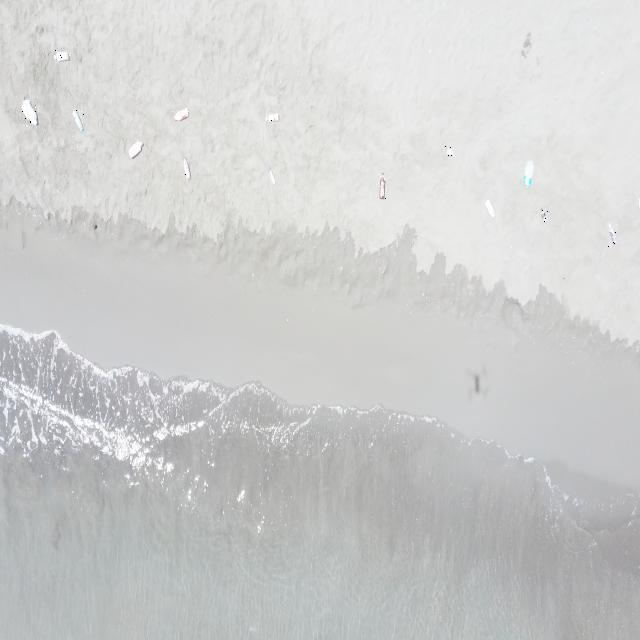plastic-bottle: (22, 97, 38, 127), (126, 140, 144, 160), (523, 160, 534, 192), (172, 106, 189, 123), (72, 106, 84, 130), (608, 222, 618, 247), (54, 50, 71, 64), (267, 165, 277, 188), (485, 199, 495, 220), (378, 174, 386, 200), (182, 158, 190, 180), (266, 111, 280, 123), (539, 207, 548, 224), (445, 146, 455, 157)
